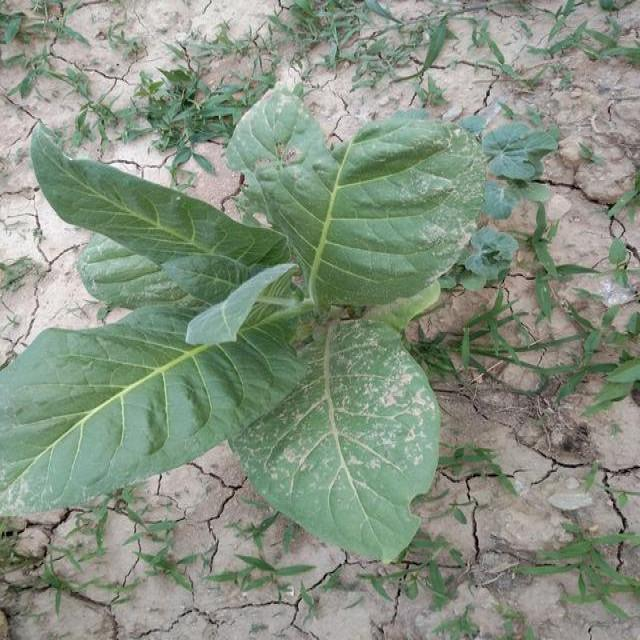crop: (2, 76, 486, 571)
